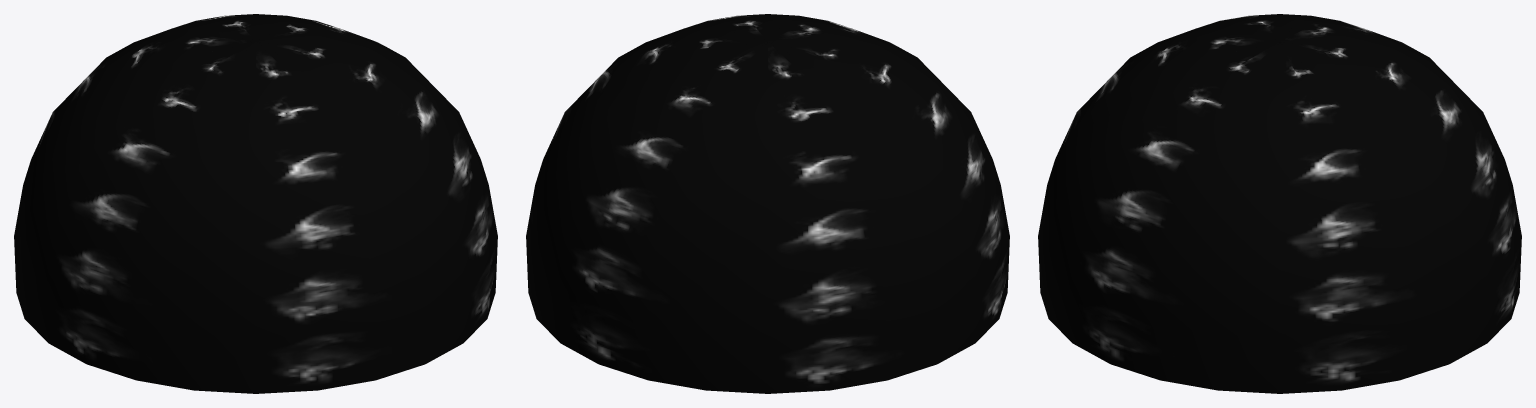
Rendered from 0470_xiaohualing_ball_z01.glb.
3 renders of one model, left to right at view 1: azimuth 30°, elevation 25°; view 2: azimuth 150°, elevation 25°; view 3: azimuth 270°, elevation 25°, orthographic.
Bounding box in the file's own units: 2.2 × 1.26 × 2.2.
1 material, 1 textured.
